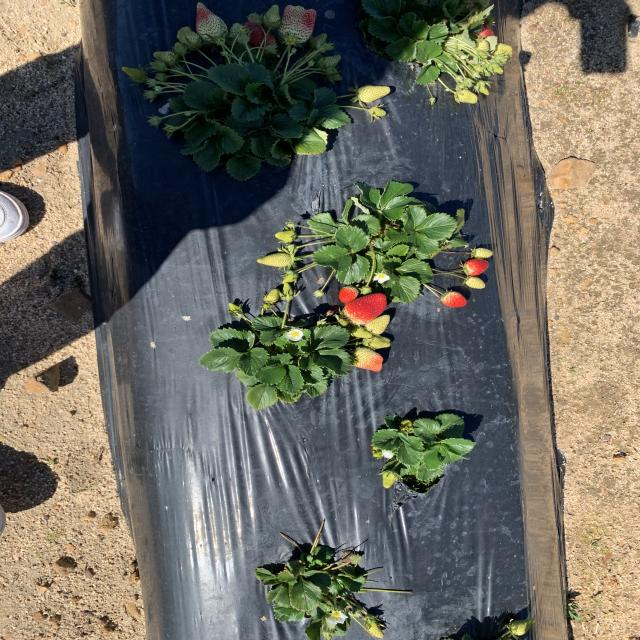unripe: (343, 292, 387, 324), (244, 20, 275, 48), (464, 259, 490, 275), (442, 291, 467, 307), (338, 286, 358, 303), (472, 22, 493, 38)
